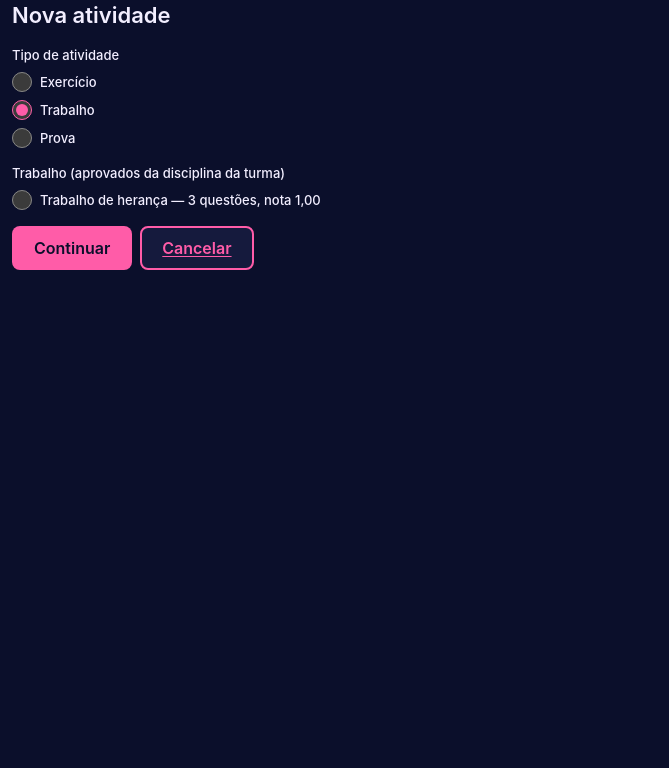
Test: 018/US2 NewActivity — aplicar uma prova do banco à turma › 018/US2-1 "Prova do banco": as aprovadas da disciplina, e a cobertura por tópico e por dificuldade antes de confirmar
Click the radio button labelled "Prova" at (22, 138), box top-left (12, 128), bottom-right (32, 148)
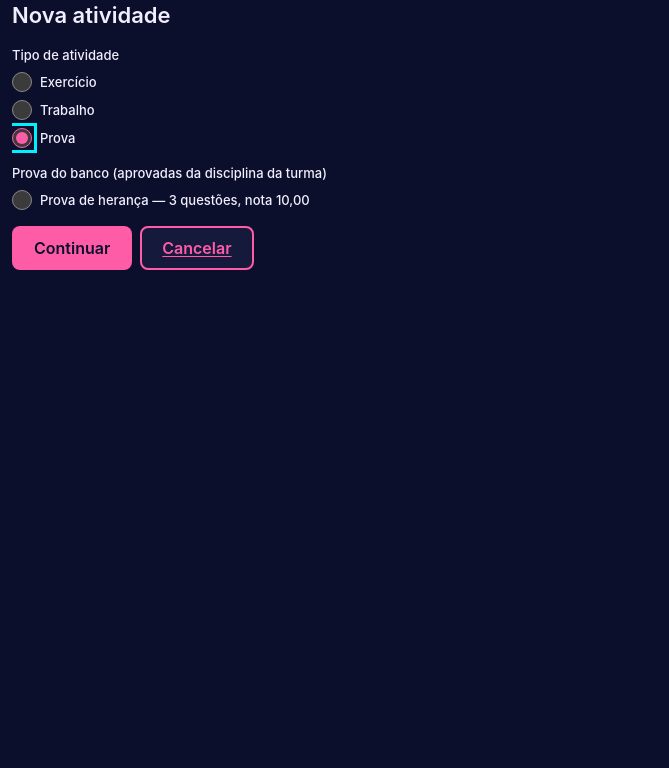
Result: the element "Prova do banco" is shown at top-left (12, 165), bottom-right (327, 210)
Click the radio button labelled "Prova de herança — 3 questões, nota 10,00" at (22, 200), box top-left (12, 190), bottom-right (32, 210)
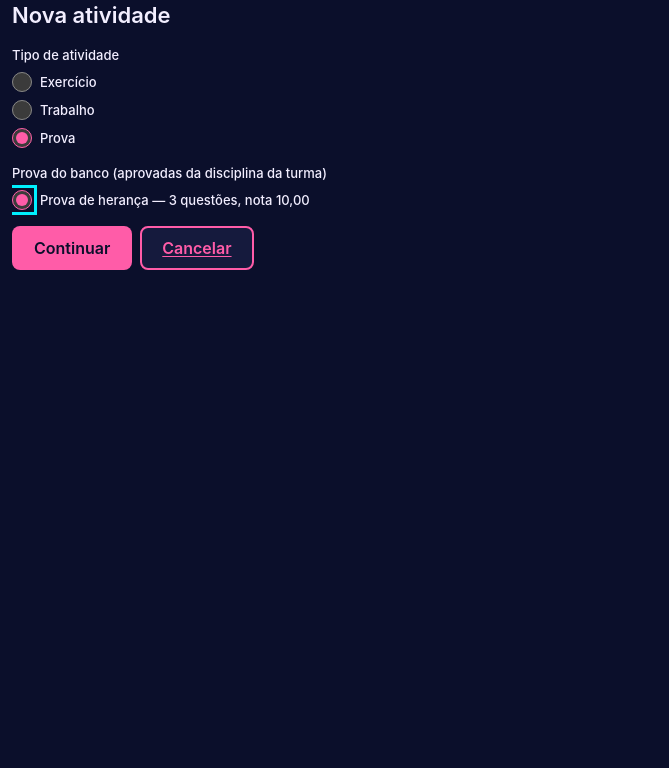
Click the button "Continuar" at (72, 248), box top-left (12, 226), bottom-right (132, 270)
(page scrolled)
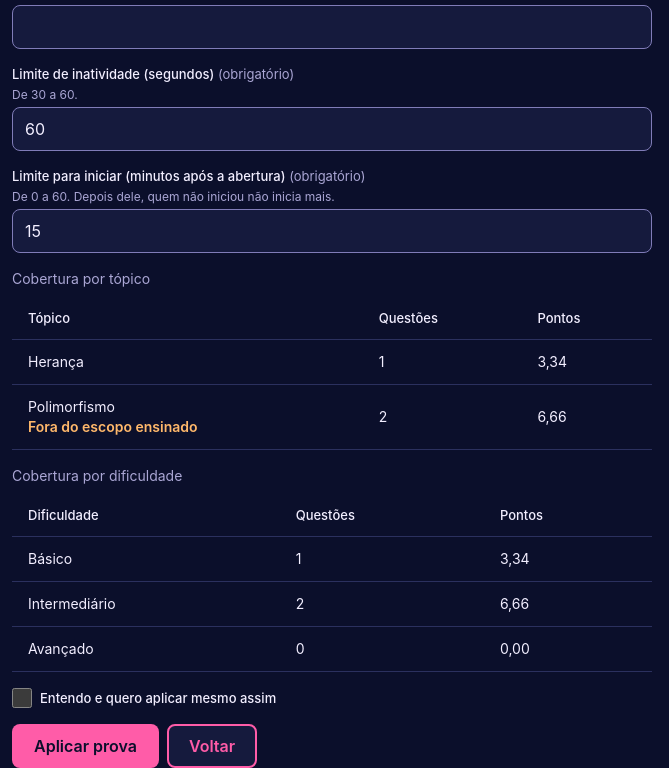
Result: the checkbox labelled "Entendo e quero aplicar mesmo assim" is shown at top-left (12, 688), bottom-right (32, 708)
